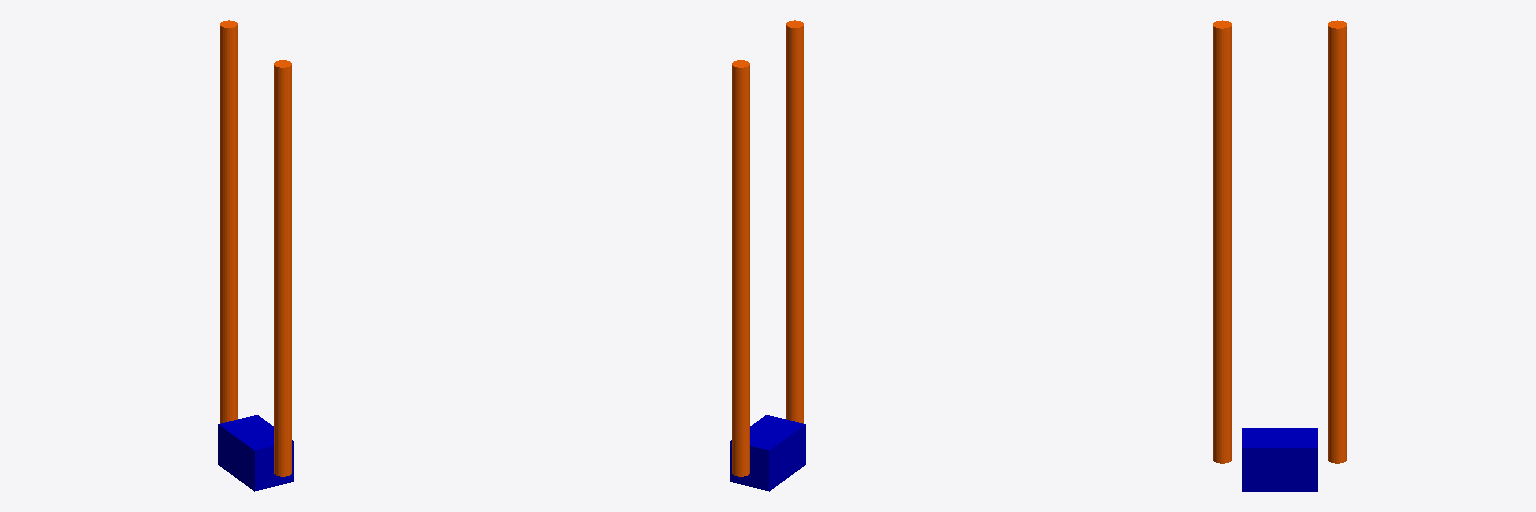
The robot description file, URDF, robot "1dof":
<?xml version="1.0" encoding="utf-8"?>
<robot name="1dof">
  <material name="black">
    <color rgba="0.0 0.0 0.0 1.0"/>
  </material>
  <material name="blue">
    <color rgba="0.0 0.0 0.8 1.0"/>
  </material>
  <material name="green">
    <color rgba="0.0 0.8 0.0 1.0"/>
  </material>
  <material name="grey">
    <color rgba="0.2 0.2 0.2 1.0"/>
  </material>
  <material name="silver">
    <color rgba="0.913725490196 0.913725490196 0.847058823529 1.0"/>
  </material>
  <material name="orange">
    <color rgba="1.0 0.423529411765 0.0392156862745 1.0"/>
  </material>
  <material name="brown">
    <color rgba="0.870588235294 0.811764705882 0.764705882353 1.0"/>
  </material>
  <material name="red">
    <color rgba="0.8 0.0 0.0 1.0"/>
  </material>
  <material name="white">
    <color rgba="1.0 1.0 1.0 1.0"/>
  </material>

  <link name="world"/>

  <!-- <link name="base"/> -->

  <link name="trunk">
	 <inertial>
     <origin xyz="0 0 0" rpy="0 0 0"/> 
     <mass value="5"/>
     <inertia ixx="0.005"  ixy="0"  ixz="0" iyy="0.005" iyz="0" izz="0.005" />
    </inertial>
    <visual>
     <origin xyz="0 0 0" rpy="0 0 0" />
     <geometry>
       <box size="0.050 0.080 0.050"/>
     </geometry>
     <material name="blue"/>
    </visual>
    <collision>
     <origin xyz="0 0 0" rpy="0 0 0"/>
     <geometry>
       <box size="0.050 0.080 0.050"/>
     </geometry>
    </collision> 
  </link>


  <link name="link1">
	  <inertial>
     <origin xyz="0 0 0.125" rpy="0 0 0"/>
     <mass value="1"/>
     <inertia ixx="0.003"  ixy="0"  ixz="0" iyy="0.003" iyz="0" izz="0.003" />
    </inertial>
	  <visual>
     <origin xyz="0 0 0.125" rpy="0 0 0" />
     <geometry>
       <cylinder radius="0.01" length="0.250"/>
     </geometry>
     <material name="orange"/>
    </visual>
	  <collision>
     <origin xyz="0 0 0.125" rpy="0 0 0"/>
     <geometry>
       <cylinder radius="0.01" length="0.250"/>
     </geometry>
    </collision>
  </link>

  
  <link name="link2">
	  <inertial>
     <origin xyz="0 0 0.125" rpy="0 0 0"/>
     <mass value="1"/>
     <inertia ixx="0.003"  ixy="0"  ixz="0" iyy="0.003" iyz="0" izz="0.003" />
    </inertial>
	  <visual>
     <origin xyz="0 0 0.125" rpy="0 0 0" />
     <geometry>
       <cylinder radius="0.01" length="0.250"/>
     </geometry>
     <material name="orange"/>
    </visual>
	  <collision>
     <origin xyz="0 0 0.125" rpy="0 0 0"/>
     <geometry>
       <cylinder radius="0.01" length="0.250"/>
     </geometry>
    </collision>
  </link>

  <link name="link3">
	  <inertial>
     <origin xyz="0 0 0.125" rpy="0 0 0"/>
     <mass value="1"/>
     <inertia ixx="0.003"  ixy="0"  ixz="0" iyy="0.003" iyz="0" izz="0.003" />
    </inertial>
	  <visual>
     <origin xyz="0 0 0.125" rpy="0 0 0" />
     <geometry>
       <cylinder radius="0.01" length="0.250"/>
     </geometry>
     <material name="orange"/>
    </visual>
	  <collision>
     <origin xyz="0 0 0.125" rpy="0 0 0"/>
     <geometry>
       <cylinder radius="0.01" length="0.250"/>
     </geometry>
    </collision>
  </link>

  <link name="link4">
	  <inertial>
     <origin xyz="0 0 0.125" rpy="0 0 0"/>
     <mass value="1"/>
     <inertia ixx="0.003"  ixy="0"  ixz="0" iyy="0.003" iyz="0" izz="0.003" />
    </inertial>
	  <visual>
     <origin xyz="0 0 0.125" rpy="0 0 0" />
     <geometry>
       <cylinder radius="0.01" length="0.250"/>
     </geometry>
     <material name="orange"/>
    </visual>
	  <collision>
     <origin xyz="0 0 0.125" rpy="0 0 0"/>
     <geometry>
       <cylinder radius="0.01" length="0.250"/>
     </geometry>
    </collision>
  </link>


  

  <!-- Joints -->
  <joint name="Joint0" type="fixed">
    <parent link="world"/>
    <child link="trunk"/>
    <origin xyz="0 0 0.15" rpy="0 0 0" />
  </joint>

  <joint name="Joint1" type="revolute">
    <parent link="trunk"/>
    <child link="link1"/>
    <axis xyz="0 1 0"/>
    <origin xyz="0 0.06 0.0" rpy="0 0 0" />
  </joint>

  <joint name="Joint2" type="revolute">
    <parent link="link1"/>
    <child link="link2"/>
    <axis xyz="1 0 0"/>
    <origin xyz="0 0 0.250" rpy="0 0 0" />
  </joint>

  <joint name="Joint3" type="revolute">
    <parent link="trunk"/>
    <child link="link3"/>
    <axis xyz="0 -1 0"/>
    <origin xyz="0 -0.06 0" rpy="0 0 0" />
  </joint>

  <joint name="Joint4" type="revolute">
    <parent link="link3"/>
    <child link="link4"/>
    <axis xyz="1 0 0"/>
    <origin xyz="0 0 0.250" rpy="0 0 0" />
  </joint>

</robot>

--- What the picture shows (computed from the rendered views, not written in the file) ---
3 views of the same robot in one strip: view 1: azimuth 30°, elevation 25°; view 2: azimuth 150°, elevation 25°; view 3: azimuth 270°, elevation 25° (orthographic).
Model 1dof with 6 links and 5 joints (4 revolute, 1 fixed), rooted at world, posed every joint at zero.
Visible links, largest first — view 1: link4, link2, trunk, link3, link1; view 2: link2, link4, trunk, link1, link3; view 3: trunk, link2, link4, link1, link3.
Link boxes in pixels (left/top/right/bottom): link4: left=274, top=60, right=291, bottom=271; link2: left=220, top=20, right=237, bottom=232; trunk: left=218, top=415, right=293, bottom=491; link3: left=274, top=270, right=291, bottom=476; link1: left=220, top=230, right=237, bottom=423; link2: left=732, top=60, right=749, bottom=271; link4: left=786, top=20, right=803, bottom=232; trunk: left=730, top=415, right=805, bottom=491; link1: left=732, top=270, right=749, bottom=476; link3: left=786, top=230, right=803, bottom=423; trunk: left=1242, top=428, right=1317, bottom=491; link2: left=1328, top=20, right=1346, bottom=245; link4: left=1213, top=20, right=1231, bottom=245; link1: left=1328, top=243, right=1346, bottom=463; link3: left=1213, top=243, right=1231, bottom=463.
Bounding box of the posed robot: 0.05 × 0.14 × 0.525 m (x, y, z).
Geometry: primitives only (box / cylinder / sphere), no mesh files.